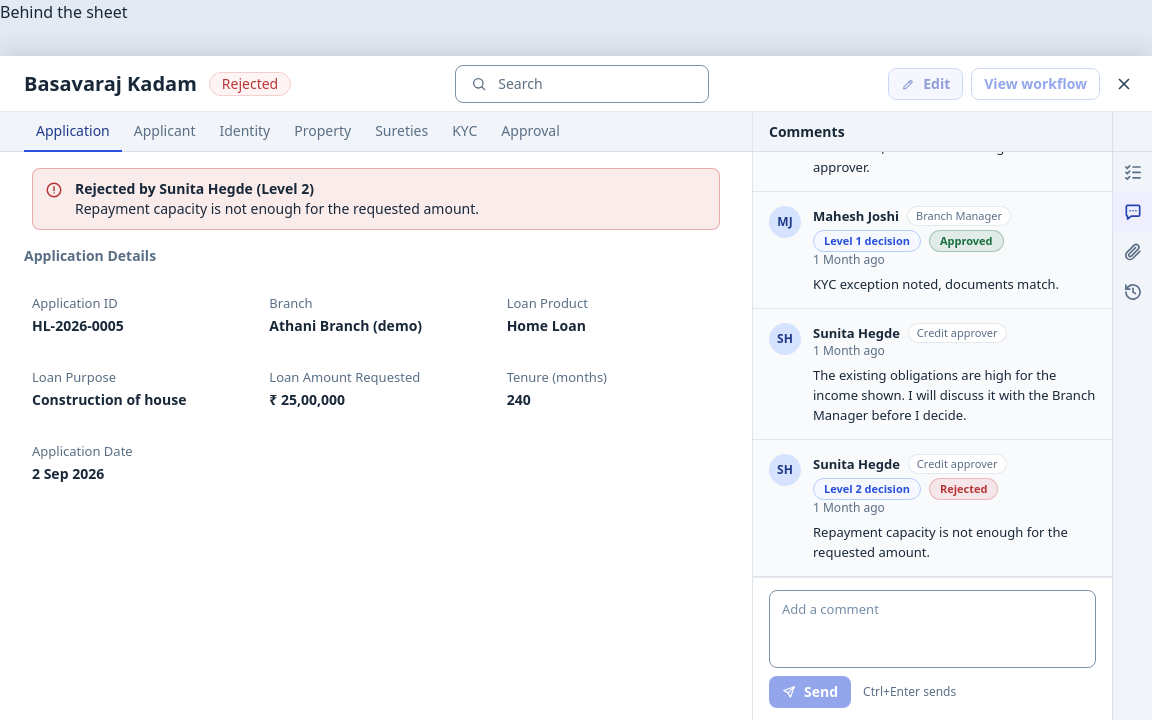
Scenario: the fields › show the approvals of a rejected application
(page scrolled)
Click the tab "Approval".
click(530, 132)  # box [489,112,572,152]
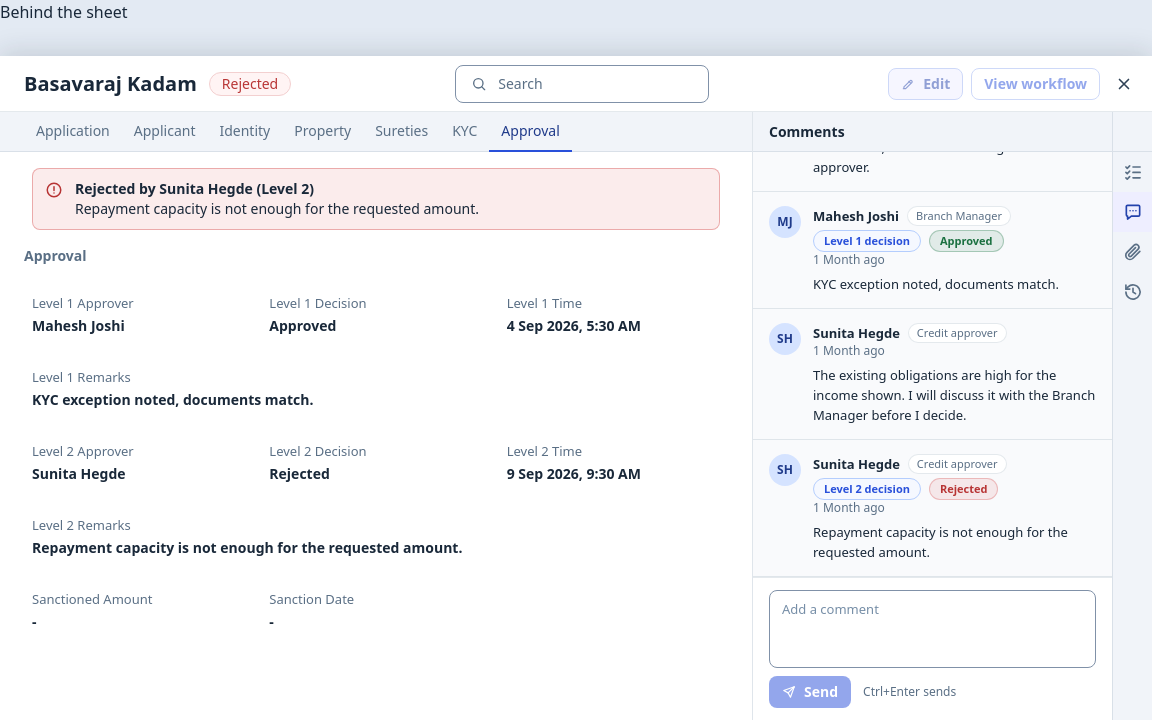
Expected: the text "Mahesh Joshi" below "Level 1 Approver" is shown, [32,316,125,335]
Expected: the text "Rejected" next to "9 Sep 2026, 9:30 AM" is shown, [269,464,330,483]
